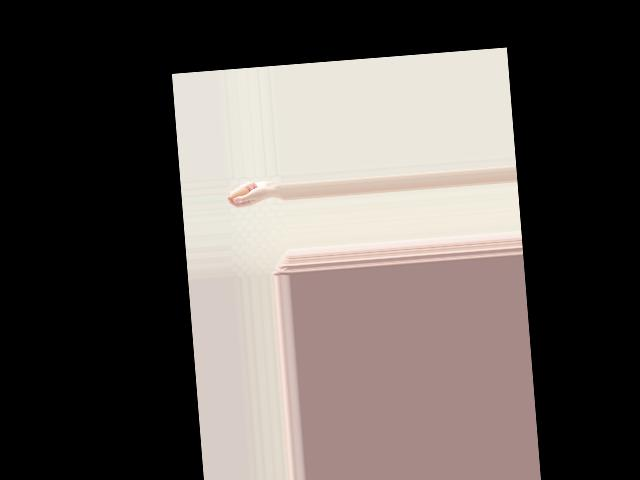egg: (229, 185, 250, 202)
